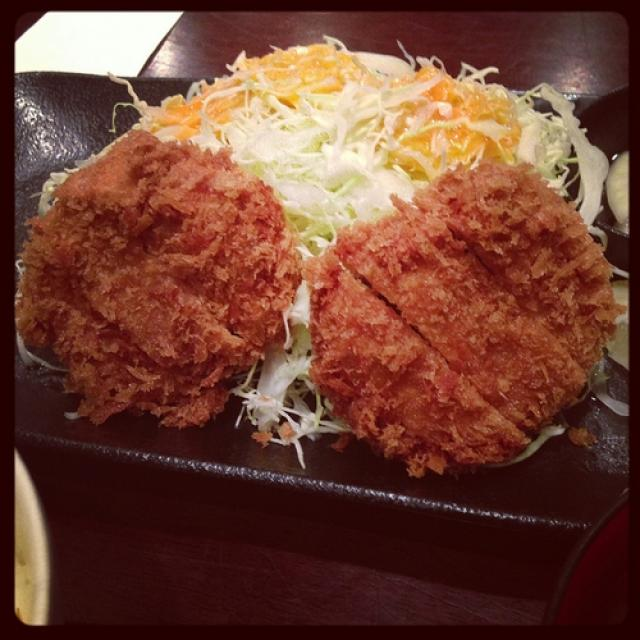牛肉菜式: (18, 67, 621, 503)
